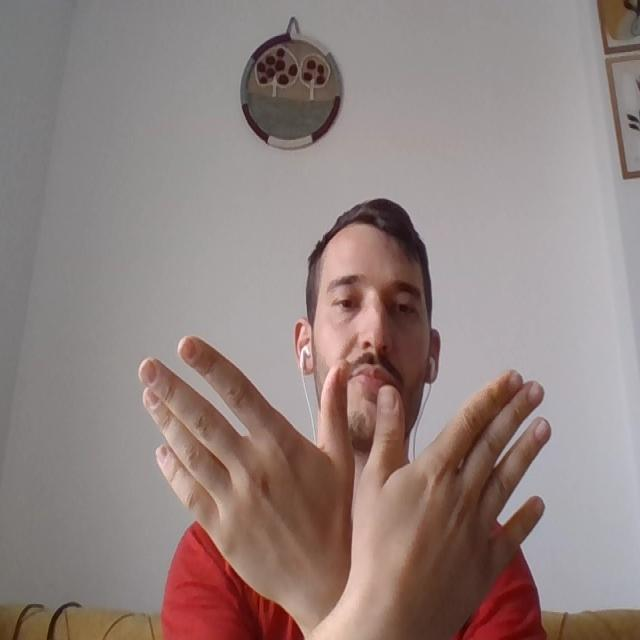thanks: (163, 356, 521, 594)
